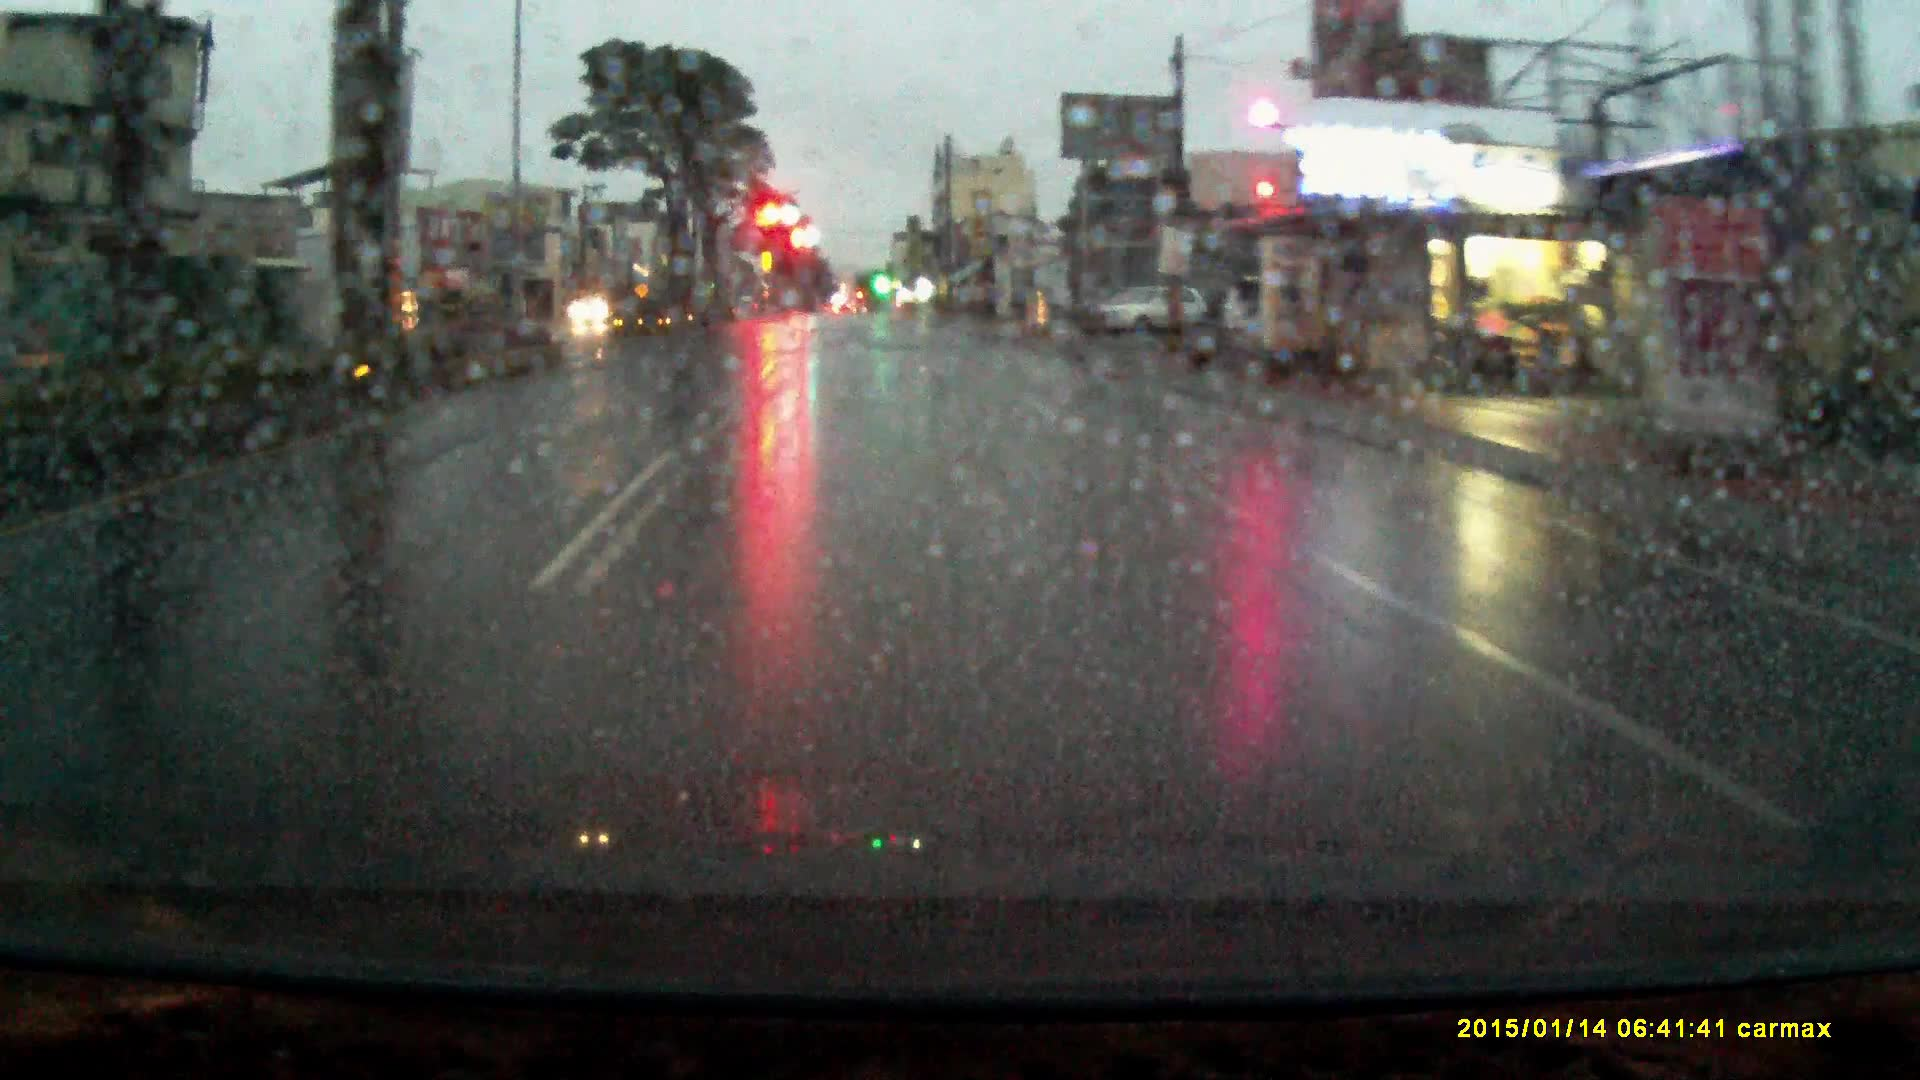vehicle: (1096, 284, 1212, 340), (567, 294, 616, 328)
